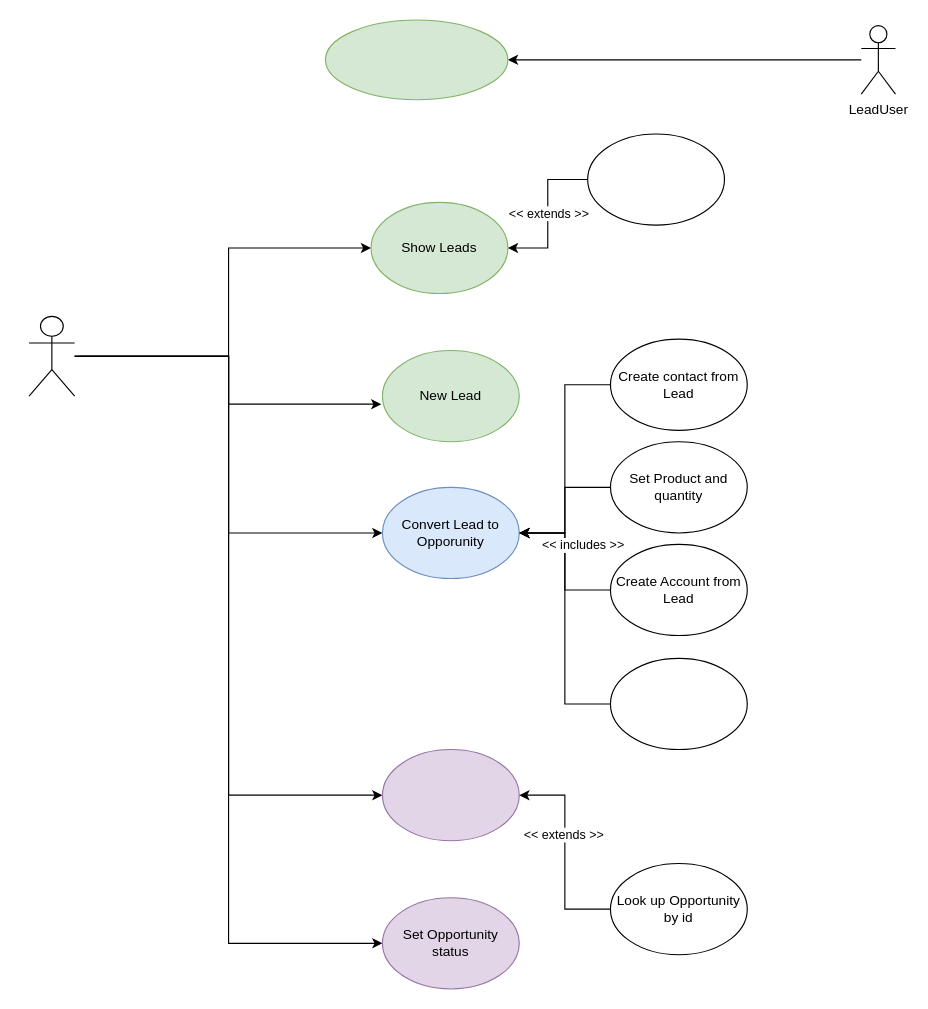
Some shapes in this 928 by 1009 pixel diagram are drawn without their labels. The box of each missing label's shape, as (x1, y1, x2, y2) in pixels:
CRM User: (28, 315, 75, 396)
Delete Lead: (609, 657, 747, 750)
Look up Lead by id: (587, 133, 724, 225)
Show Opportunities: (381, 748, 519, 841)
Signs up as new Lead: (324, 19, 508, 100)
